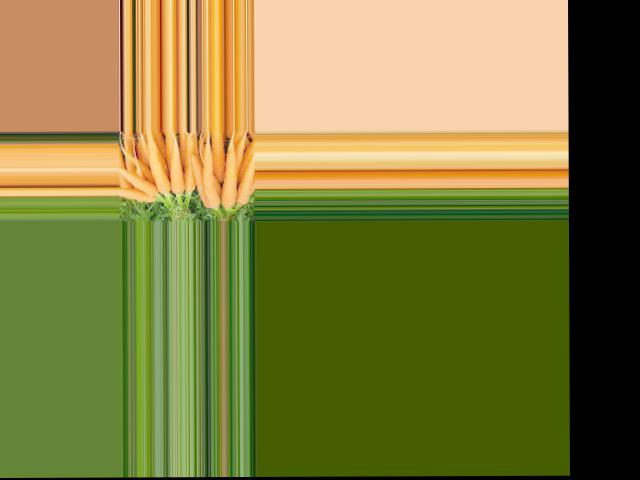carrot: (218, 133, 240, 207)
